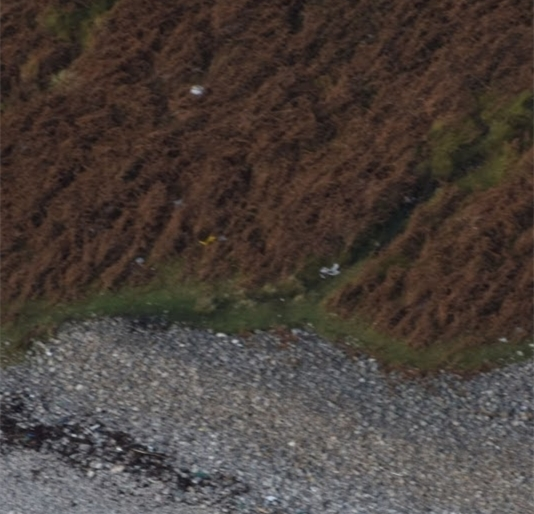white_in_green: (169, 63, 230, 117), (304, 244, 365, 298)
